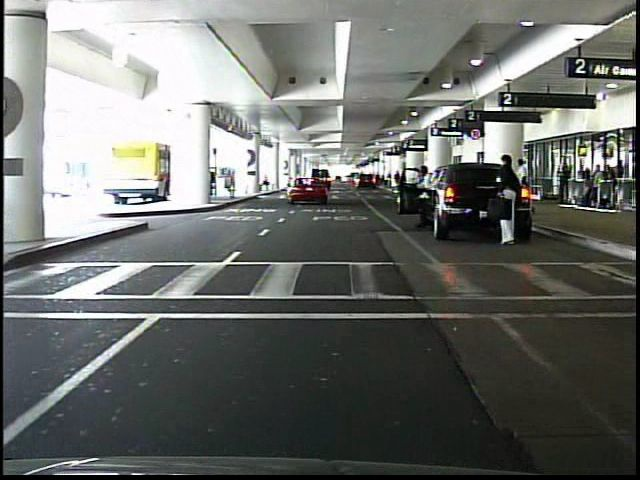person: (494, 156, 526, 251), (414, 161, 437, 231), (512, 157, 533, 215), (558, 160, 571, 204), (393, 171, 404, 190)
